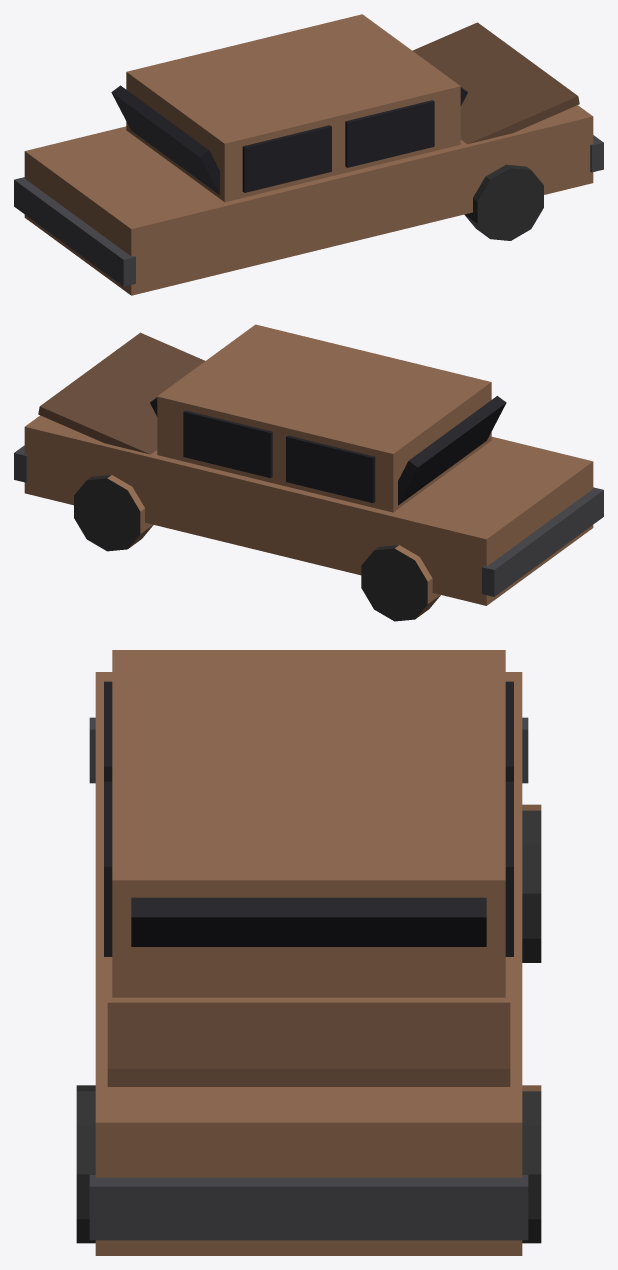
Rendered from v2_car_sedan.glb.
The picture shows the model from 3 angles, top to bottom: view 1: azimuth 30°, elevation 25°; view 2: azimuth 150°, elevation 25°; view 3: azimuth 270°, elevation 25°; orthographic projection. The views are drawn at different scales.
Visible parts, largest first — view 1: v2_car_sedan; view 2: v2_car_sedan; view 3: v2_car_sedan.
Boxes of the visible parts, x1=… form: v2_car_sedan: x1=14, y1=14, x2=603, y2=295; v2_car_sedan: x1=14, y1=324, x2=603, y2=621; v2_car_sedan: x1=76, y1=650, x2=541, y2=1255.
Bounding box in the file's own units: 4.68 × 1.48 × 1.96.
